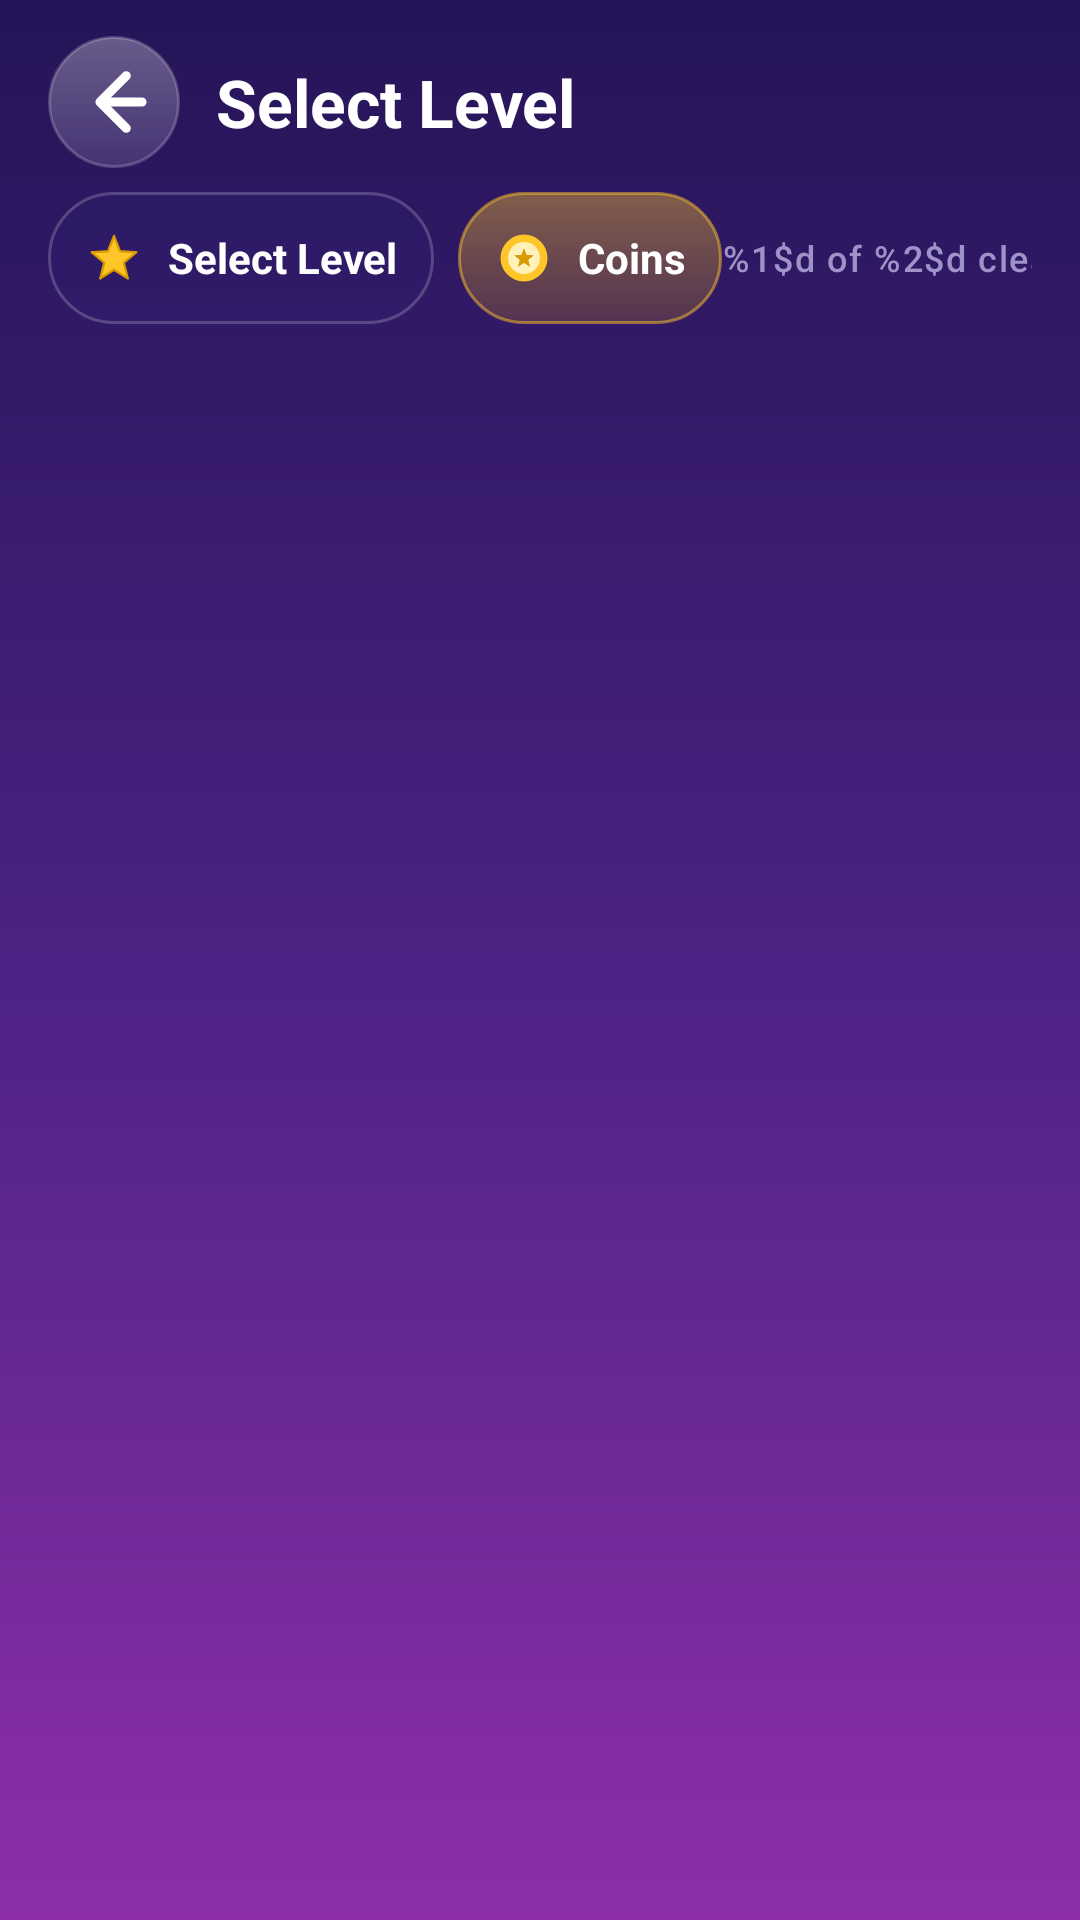

Screen size 1080px×1920px. Icon name, then its box in pixels as rect(x1, y1, x2, y2):
Go back: rect(48, 36, 180, 168)
star: rect(90, 235, 138, 280)
